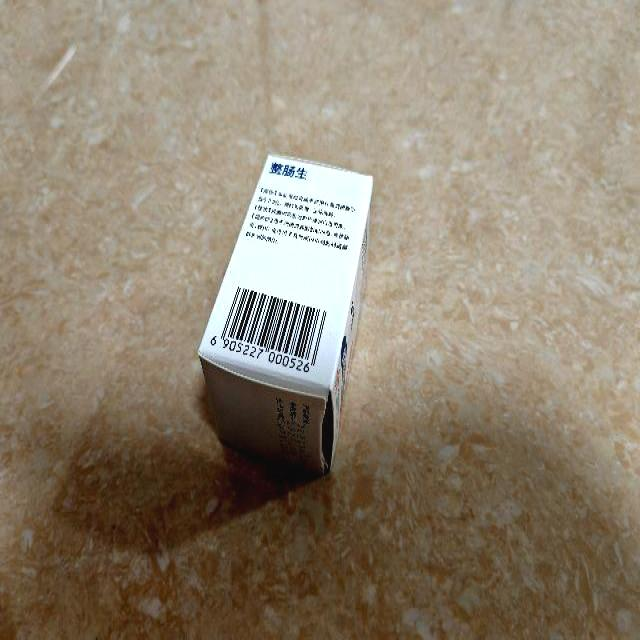box: (197, 153, 375, 476)
